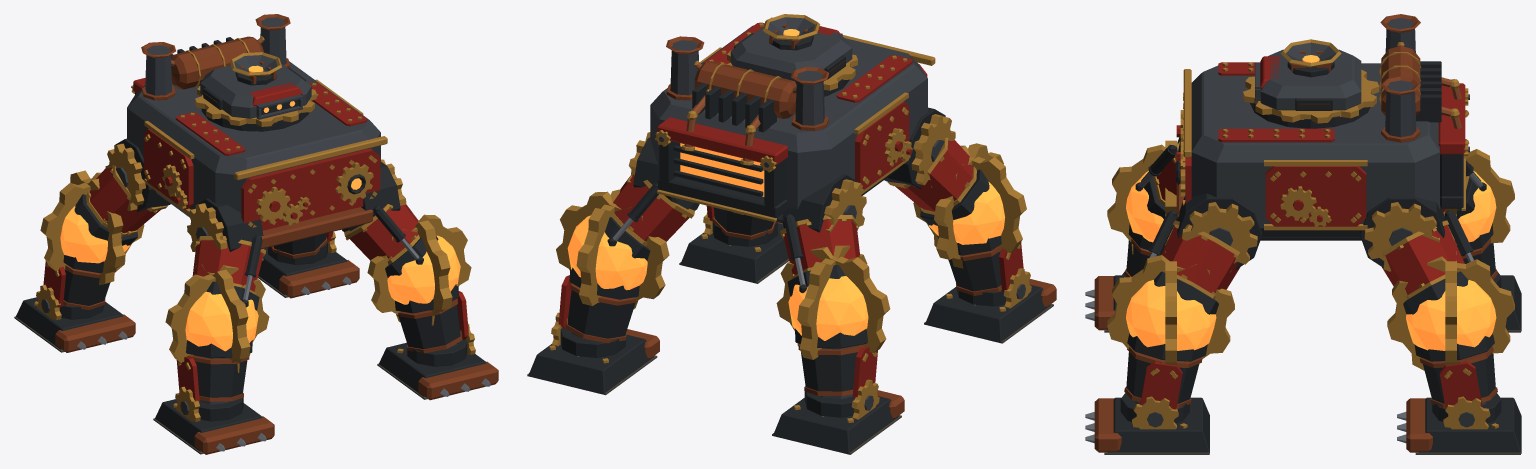
File: colossus_cog.fbx
3 views of the same model, side by side, from view 1: azimuth 30°, elevation 25°; view 2: azimuth 150°, elevation 25°; view 3: azimuth 270°, elevation 25° (orthographic). The views are drawn at different scales.
Parts seen in each view (by area): view 1: Body, Leg_1_Upper, Leg_3_Upper, Leg_2_Upper, Leg_1_Lower, Leg_2_Lower, Leg_3_Lower, Leg_4_Lower, Joint_1, Joint_2, Joint_3; view 2: Body, Leg_3_Upper, Leg_1_Upper, Leg_3_Lower, Leg_4_Upper, Leg_4_Lower, Leg_1_Lower, Leg_2_Lower, Joint_3, Joint_4, Joint_1, Core; view 3: Body, Leg_2_Upper, Leg_4_Upper, Leg_2_Lower, Leg_4_Lower, Joint_2, Joint_4, Leg_1_Upper, Leg_3_Upper, Leg_1_Lower, Leg_3_Lower, Joint_1 (+1 smaller).
Part boxes in pixels (<box>): Body: <box>127,14,387,249</box>; Leg_1_Upper: <box>165,198,269,372</box>; Leg_3_Upper: <box>40,138,170,284</box>; Leg_2_Upper: <box>342,159,471,325</box>; Leg_1_Lower: <box>153,340,274,454</box>; Leg_2_Lower: <box>377,284,498,400</box>; Leg_3_Lower: <box>14,255,135,352</box>; Leg_4_Lower: <box>258,232,359,298</box>; Joint_1: <box>185,291,258,351</box>; Joint_2: <box>387,235,460,304</box>; Joint_3: <box>60,205,129,263</box>; Body: <box>650,14,935,223</box>; Leg_3_Upper: <box>776,174,890,359</box>; Leg_1_Upper: <box>884,107,1026,268</box>; Leg_3_Lower: <box>772,328,904,454</box>; Leg_4_Upper: <box>556,132,699,309</box>; Leg_4_Lower: <box>527,267,659,395</box>; Leg_1_Lower: <box>924,235,1056,343</box>; Leg_2_Lower: <box>679,205,789,283</box>; Joint_3: <box>788,276,868,340</box>; Joint_4: <box>567,215,647,290</box>; Joint_1: <box>929,182,1005,244</box>; Core: <box>680,143,764,196</box>; Body: <box>1175,14,1469,240</box>; Leg_2_Upper: <box>1107,193,1262,365</box>; Leg_4_Upper: <box>1360,197,1514,370</box>; Leg_2_Lower: <box>1085,333,1209,454</box>; Leg_4_Lower: <box>1397,333,1521,454</box>; Joint_2: <box>1126,280,1216,350</box>; Joint_4: <box>1406,280,1496,350</box>; Leg_1_Upper: <box>1107,137,1180,254</box>; Leg_3_Upper: <box>1442,149,1514,245</box>; Leg_1_Lower: <box>1085,223,1165,332</box>; Leg_3_Lower: <box>1457,223,1521,332</box>; Joint_1: <box>1126,171,1163,242</box>.
Size of the model in its own units: 24.72 by 22.66 by 27.73.
15 materials, 9 textured.
